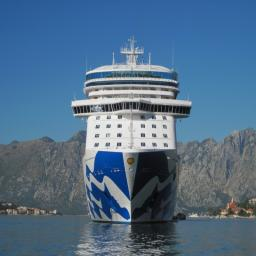cruises: (67, 32, 194, 229)
